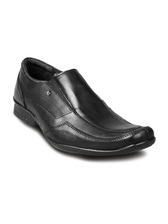shoesd: (11, 57, 157, 158)
